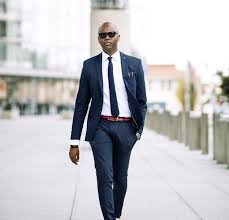F_M_suit jacket: (65, 49, 154, 145)
F_dress pants: (87, 119, 141, 219)
F_tie: (107, 57, 121, 120), (93, 110, 138, 127)
